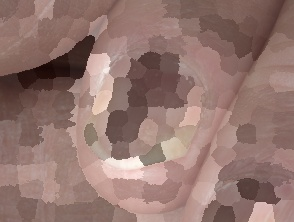Nail_psoriasis: (68, 51, 220, 190)
